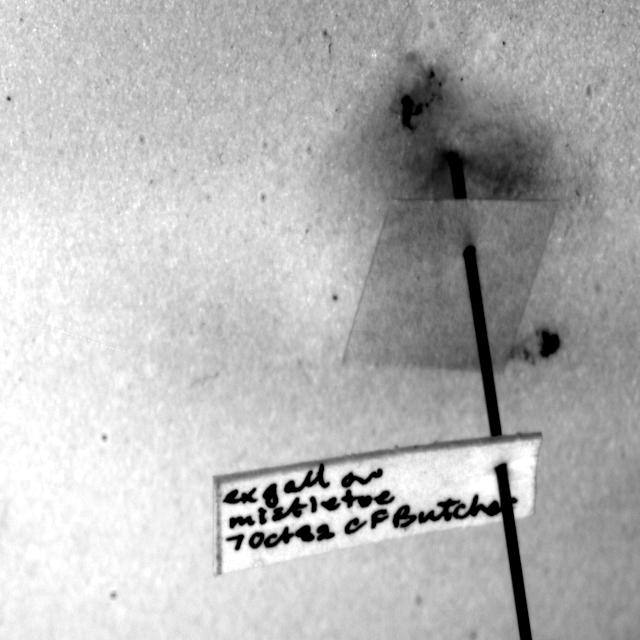hand_label: (214, 433, 541, 574)
